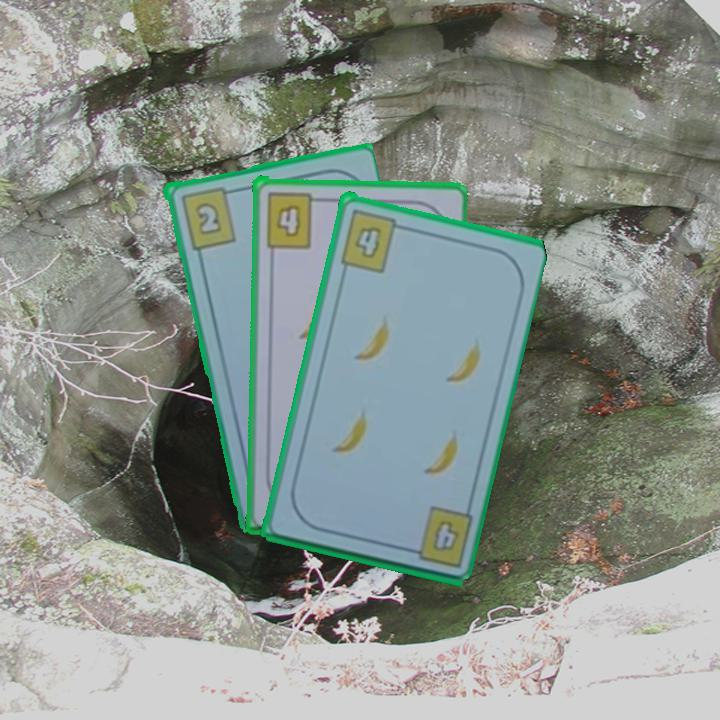2b: (177, 182, 238, 252)
4b: (400, 503, 475, 571), (336, 205, 408, 275), (262, 188, 325, 250)
